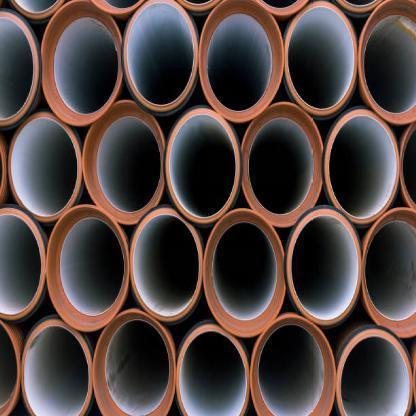pipe: (240, 102, 324, 227), (202, 208, 284, 336), (199, 0, 284, 122), (82, 100, 164, 226), (46, 205, 128, 331), (42, 0, 121, 126), (284, 205, 362, 327), (162, 106, 242, 224), (92, 308, 175, 415), (122, 0, 199, 113), (324, 109, 399, 224), (249, 316, 336, 415), (284, 0, 357, 116), (130, 206, 202, 323), (8, 112, 82, 222), (360, 206, 416, 336), (358, 0, 415, 125), (176, 319, 250, 415), (21, 316, 92, 415), (335, 327, 413, 415), (0, 205, 46, 321), (0, 8, 41, 130)
